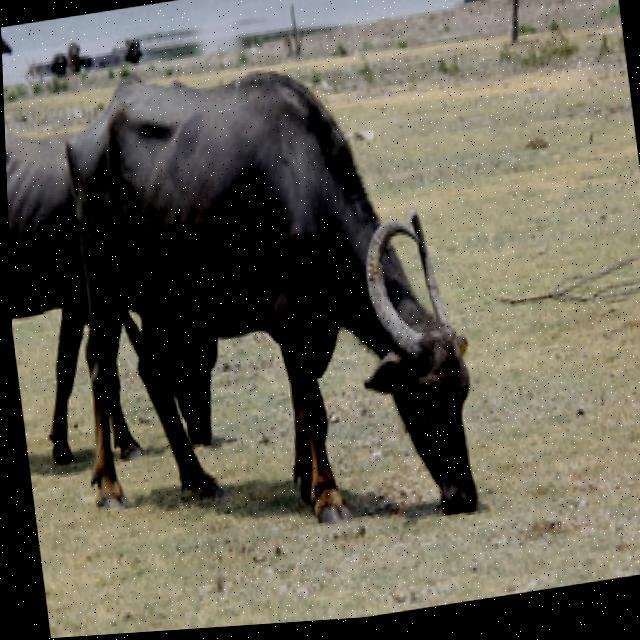Buffalo: (37, 23, 493, 576)
